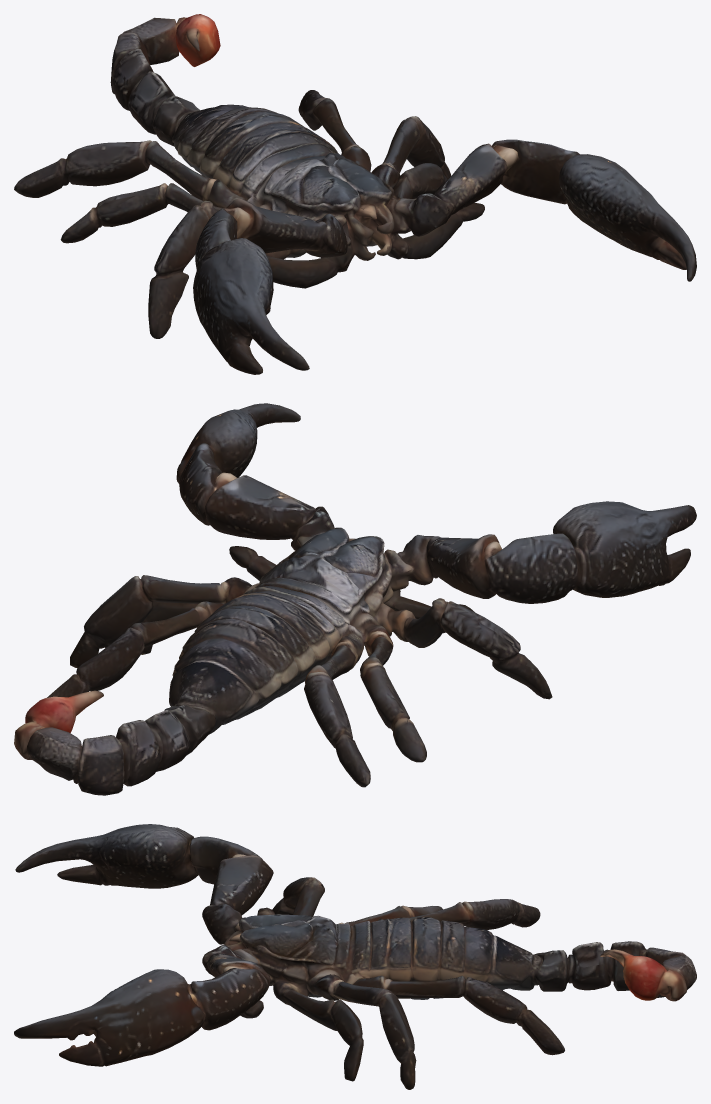
The model's file is escorpion.obj.
3 views of the same model, one above another, from view 1: azimuth 30°, elevation 25°; view 2: azimuth 150°, elevation 25°; view 3: azimuth 270°, elevation 25° (orthographic). The views are drawn at different scales.
Visible parts, largest first — view 1: escorpion; view 2: escorpion; view 3: escorpion.
Part boxes in pixels (<box>): escorpion: <box>14,14,696,374</box>; escorpion: <box>14,403,696,795</box>; escorpion: <box>14,824,696,1089</box>.
Size of the model in its own units: 0.4034 by 0.1199 by 0.6199.
